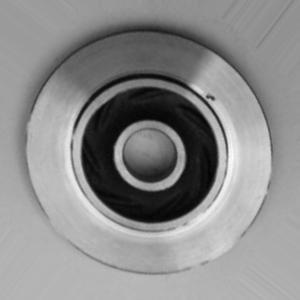crack: (199, 87, 221, 109)
scratch: (180, 238, 245, 276)
unpolished_casting: (25, 29, 274, 277)
